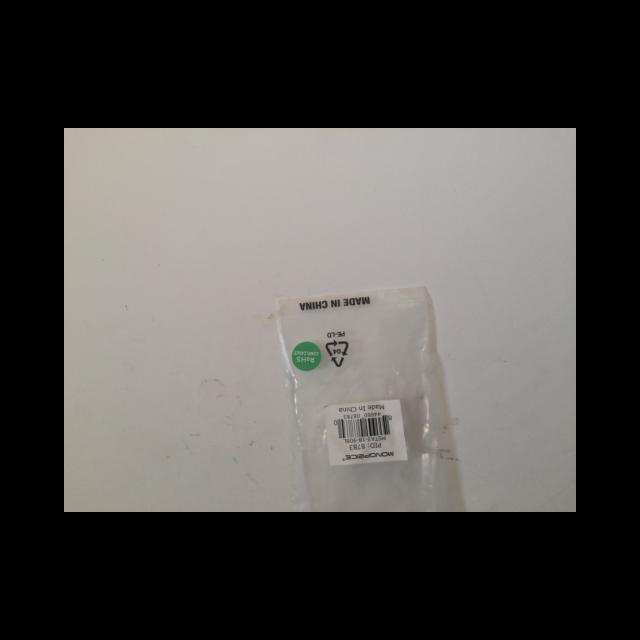plastic: (276, 286, 442, 511)
